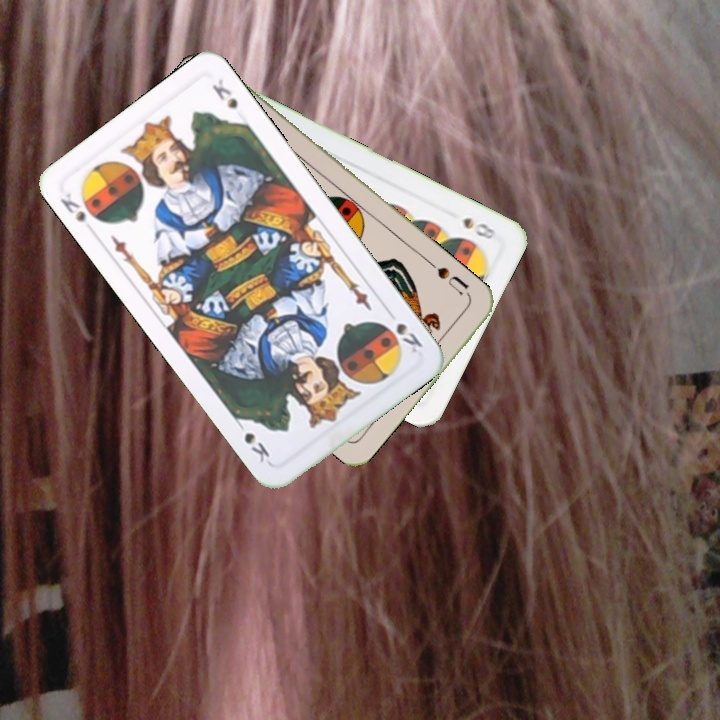S8: (459, 213, 502, 242)
SK: (391, 319, 426, 356), (55, 189, 89, 225)
SU: (424, 257, 474, 301)
